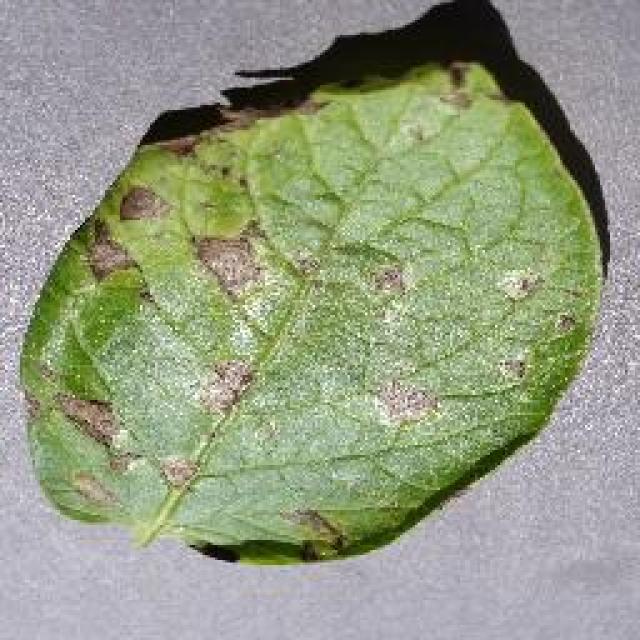early_blight: (12, 52, 610, 570)
